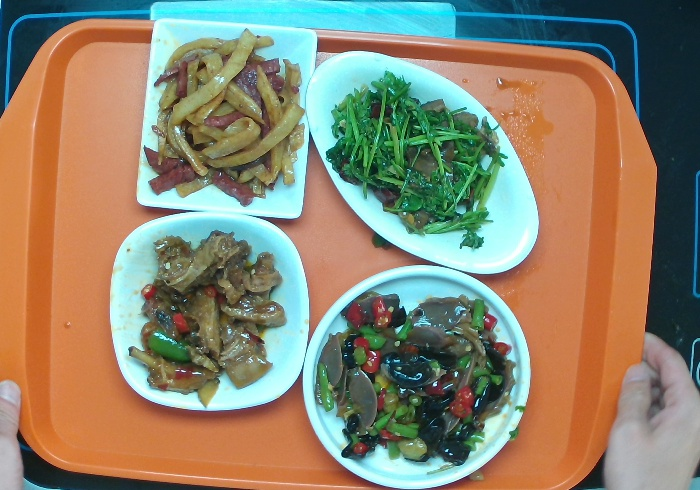HZYJPL-Si_Fang_Die: (131, 15, 320, 222)
HZYJPL-Si_Fang_Yuan_Die: (103, 207, 313, 418)
HZYJPL-Xiao_Yu_Die: (299, 44, 543, 280)
HZYJPL-Xiao_Yuan_Die: (297, 260, 534, 490)
